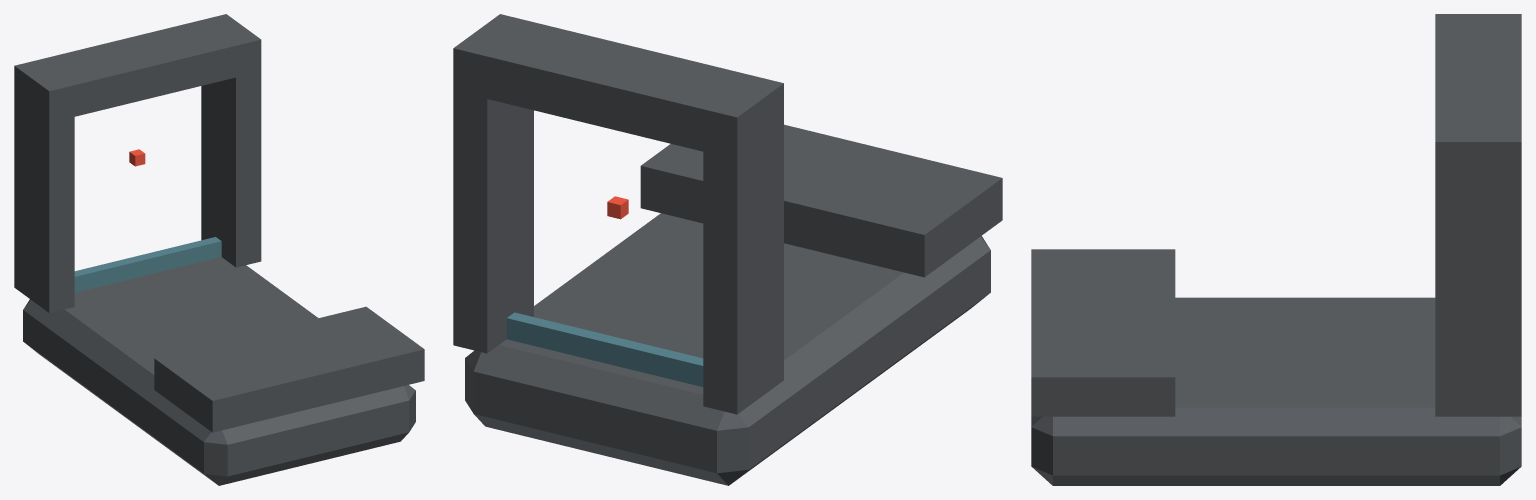
Rendered from minidot.glb.
3 views of the same model, side by side, from view 1: azimuth 30°, elevation 25°; view 2: azimuth 150°, elevation 25°; view 3: azimuth 270°, elevation 25° (orthographic). The views are drawn at different scales.
Parts seen in each view (by area): view 1: body; view 2: body; view 3: body.
Boxes of the visible parts, left/top/right/bottom form: body: left=14, top=14, right=424, bottom=485; body: left=453, top=14, right=1002, bottom=485; body: left=1031, top=14, right=1521, bottom=485.
Size of the model in its own units: 0.021 by 0.027 by 0.034.
